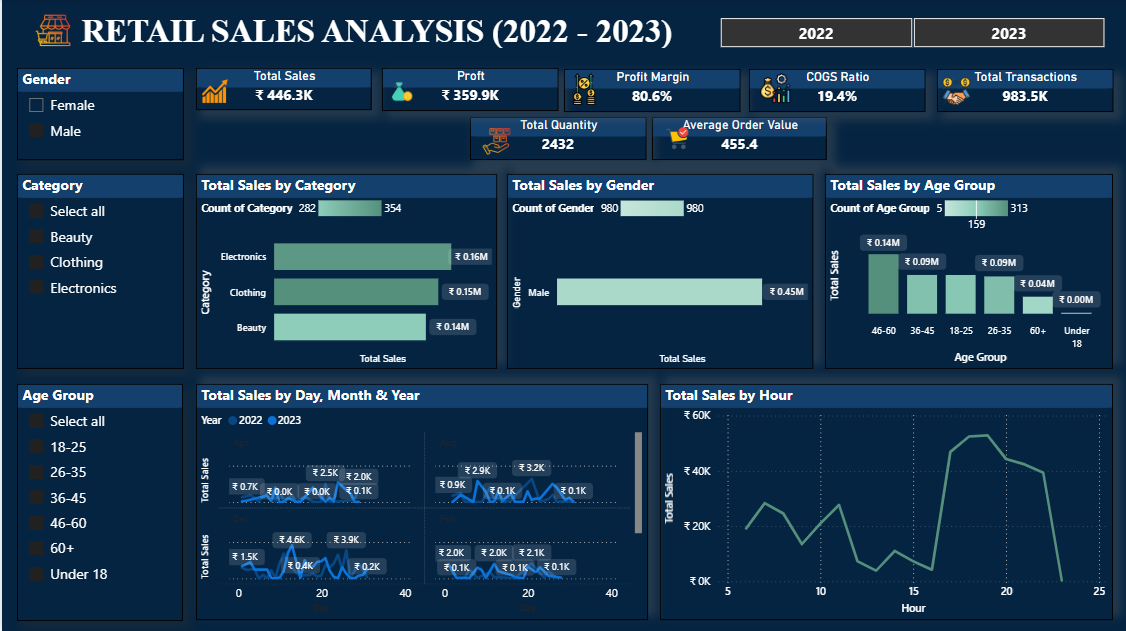

The dashboard page shown, as its layout file describes it:
{"tool":"powerbi","page":{"name":"Sales Analysis","canvas":[1280,720],"ordinal":0},"visuals":[{"type":"barChart","title":"Total Sales by Category","fields":{"Category":["Retail_Sales_Analysis_utf.category"],"Y":["Retail_Sales_Analysis_utf.Total Sales"]},"box":[221,199.4,342.9,222.2],"z":0},{"type":"barChart","title":"Total Sales by Gender","fields":{"Category":["Retail_Sales_Analysis_utf.gender"],"Y":["Retail_Sales_Analysis_utf.Total Sales"]},"box":[575.3,199.4,348.6,222.2],"z":1000},{"type":"card","title":"Total Sales","fields":{"Values":["Retail_Sales_Analysis_utf.Total Sales"]},"box":[220.6,79,200,48],"z":2000},{"type":"card","title":"Total Transactions","fields":{"Values":["Retail_Sales_Analysis_utf.Total Transactions"]},"box":[1065.2,79.7,200.5,49],"z":3000},{"type":"card","title":"Total Quantity","fields":{"Values":["Retail_Sales_Analysis_utf.Total Quantity Sold"]},"box":[533.2,134.4,200.5,49],"z":4000},{"type":"card","title":"Average Order Value","fields":{"Values":["Retail_Sales_Analysis_utf.Average Order Value"]},"box":[740.5,134.4,199.4,49],"z":5000},{"type":"card","title":"Proft","fields":{"Values":["Retail_Sales_Analysis_utf.Profit"]},"box":[432.9,78.6,200.5,49],"z":6000},{"type":"card","title":"Profit Margin","fields":{"Values":["Retail_Sales_Analysis_utf.Profit Margin (%)"]},"box":[640.3,79.7,200.5,49],"z":7000},{"type":"card","title":"COGS Ratio","fields":{"Values":["Retail_Sales_Analysis_utf.Cogs% of Sales"]},"box":[851,79.7,200.5,49],"z":8000},{"type":"clusteredColumnChart","fields":{"Category":["Retail_Sales_Analysis_utf.Age Group"],"Y":["Retail_Sales_Analysis_utf.Total Sales"]},"box":[937.6,199.4,328.1,222.2],"z":9000},{"type":"lineChart","fields":{"Category":["Retail_Sales_Analysis_utf.Hour"],"Y":["Retail_Sales_Analysis_utf.Total Sales"]},"box":[749.6,438.6,516.1,268.9],"z":10000},{"type":"slicer","title":"Category","fields":{"Values":["Retail_Sales_Analysis_utf.category"]},"box":[16.6,198.9,190,221.8],"z":11000},{"type":"slicer","title":"Gender","fields":{"Values":["Retail_Sales_Analysis_utf.gender"]},"box":[16.6,79,190,104.5],"z":12000},{"type":"slicer","title":"Age Group","fields":{"Values":["Retail_Sales_Analysis_utf.Age Group"]},"box":[17.1,438.6,189.1,270],"z":13000},{"type":"textbox","title":"RETAIL SALES ANALYSIS (2022 - 2023)","box":[85.4,15.3,694.8,40.8],"z":14000},{"type":"lineChart","title":"Total Sales by Day, Month & Year","fields":{"Category":["DateTable.Day"],"Y":["Retail_Sales_Analysis_utf.Total Sales"],"Rows":["DateTable.Month Name"],"Series":["DateTable.Year"]},"box":[221,438.6,514.9,268.9],"z":15000},{"type":"slicer","fields":{"Values":["Retail_Sales_Analysis_utf.Year"]},"box":[793,15.3,487,40.8],"z":16000},{"type":"image","box":[29.3,10.2,56.1,51],"z":17000},{"type":"image","box":[221,85.4,42.2,38.7],"z":18000},{"type":"image","box":[1065.2,82,44.4,46.7],"z":19000},{"type":"image","box":[542.3,141.3,42.2,42.2],"z":20000},{"type":"image","box":[434.1,78.6,44.4,53.5],"z":21000},{"type":"image","box":[640.3,78.6,45.6,49],"z":22000},{"type":"image","box":[751.9,139,35.3,39.9],"z":23000},{"type":"image","box":[859,78.6,44.4,45.6],"z":24000}]}

Visuals, with their boxes in screenshot pixels (x1, y1, x2, y2), scaled from the page's 1280x720 canvas onto the 1126x631 screenshot:
"Total Sales by Category" barChart: <box>194,175,496,369</box>
"Total Sales by Gender" barChart: <box>506,175,813,369</box>
"Total Sales" card: <box>194,69,370,111</box>
"Total Transactions" card: <box>937,70,1113,113</box>
"Total Quantity" card: <box>469,118,645,161</box>
"Average Order Value" card: <box>651,118,827,161</box>
"Proft" card: <box>381,69,557,112</box>
"Profit Margin" card: <box>563,70,740,113</box>
"COGS Ratio" card: <box>749,70,925,113</box>
clusteredColumnChart - Retail_Sales_Analysis_utf.Age Group x Retail_Sales_Analysis_utf.Total Sales: <box>825,175,1113,369</box>
lineChart - Retail_Sales_Analysis_utf.Hour x Retail_Sales_Analysis_utf.Total Sales: <box>659,384,1113,620</box>
"Category" slicer: <box>15,174,182,369</box>
"Gender" slicer: <box>15,69,182,161</box>
"Age Group" slicer: <box>15,384,181,621</box>
"RETAIL SALES ANALYSIS (2022 - 2023)" textbox: <box>75,13,686,49</box>
"Total Sales by Day, Month & Year" lineChart: <box>194,384,647,620</box>
slicer - Retail_Sales_Analysis_utf.Year: <box>698,13,1125,49</box>
image: <box>26,9,75,54</box>
image: <box>194,75,232,109</box>
image: <box>937,72,976,113</box>
image: <box>477,124,514,161</box>
image: <box>382,69,421,116</box>
image: <box>563,69,603,112</box>
image: <box>661,122,692,157</box>
image: <box>756,69,795,109</box>
